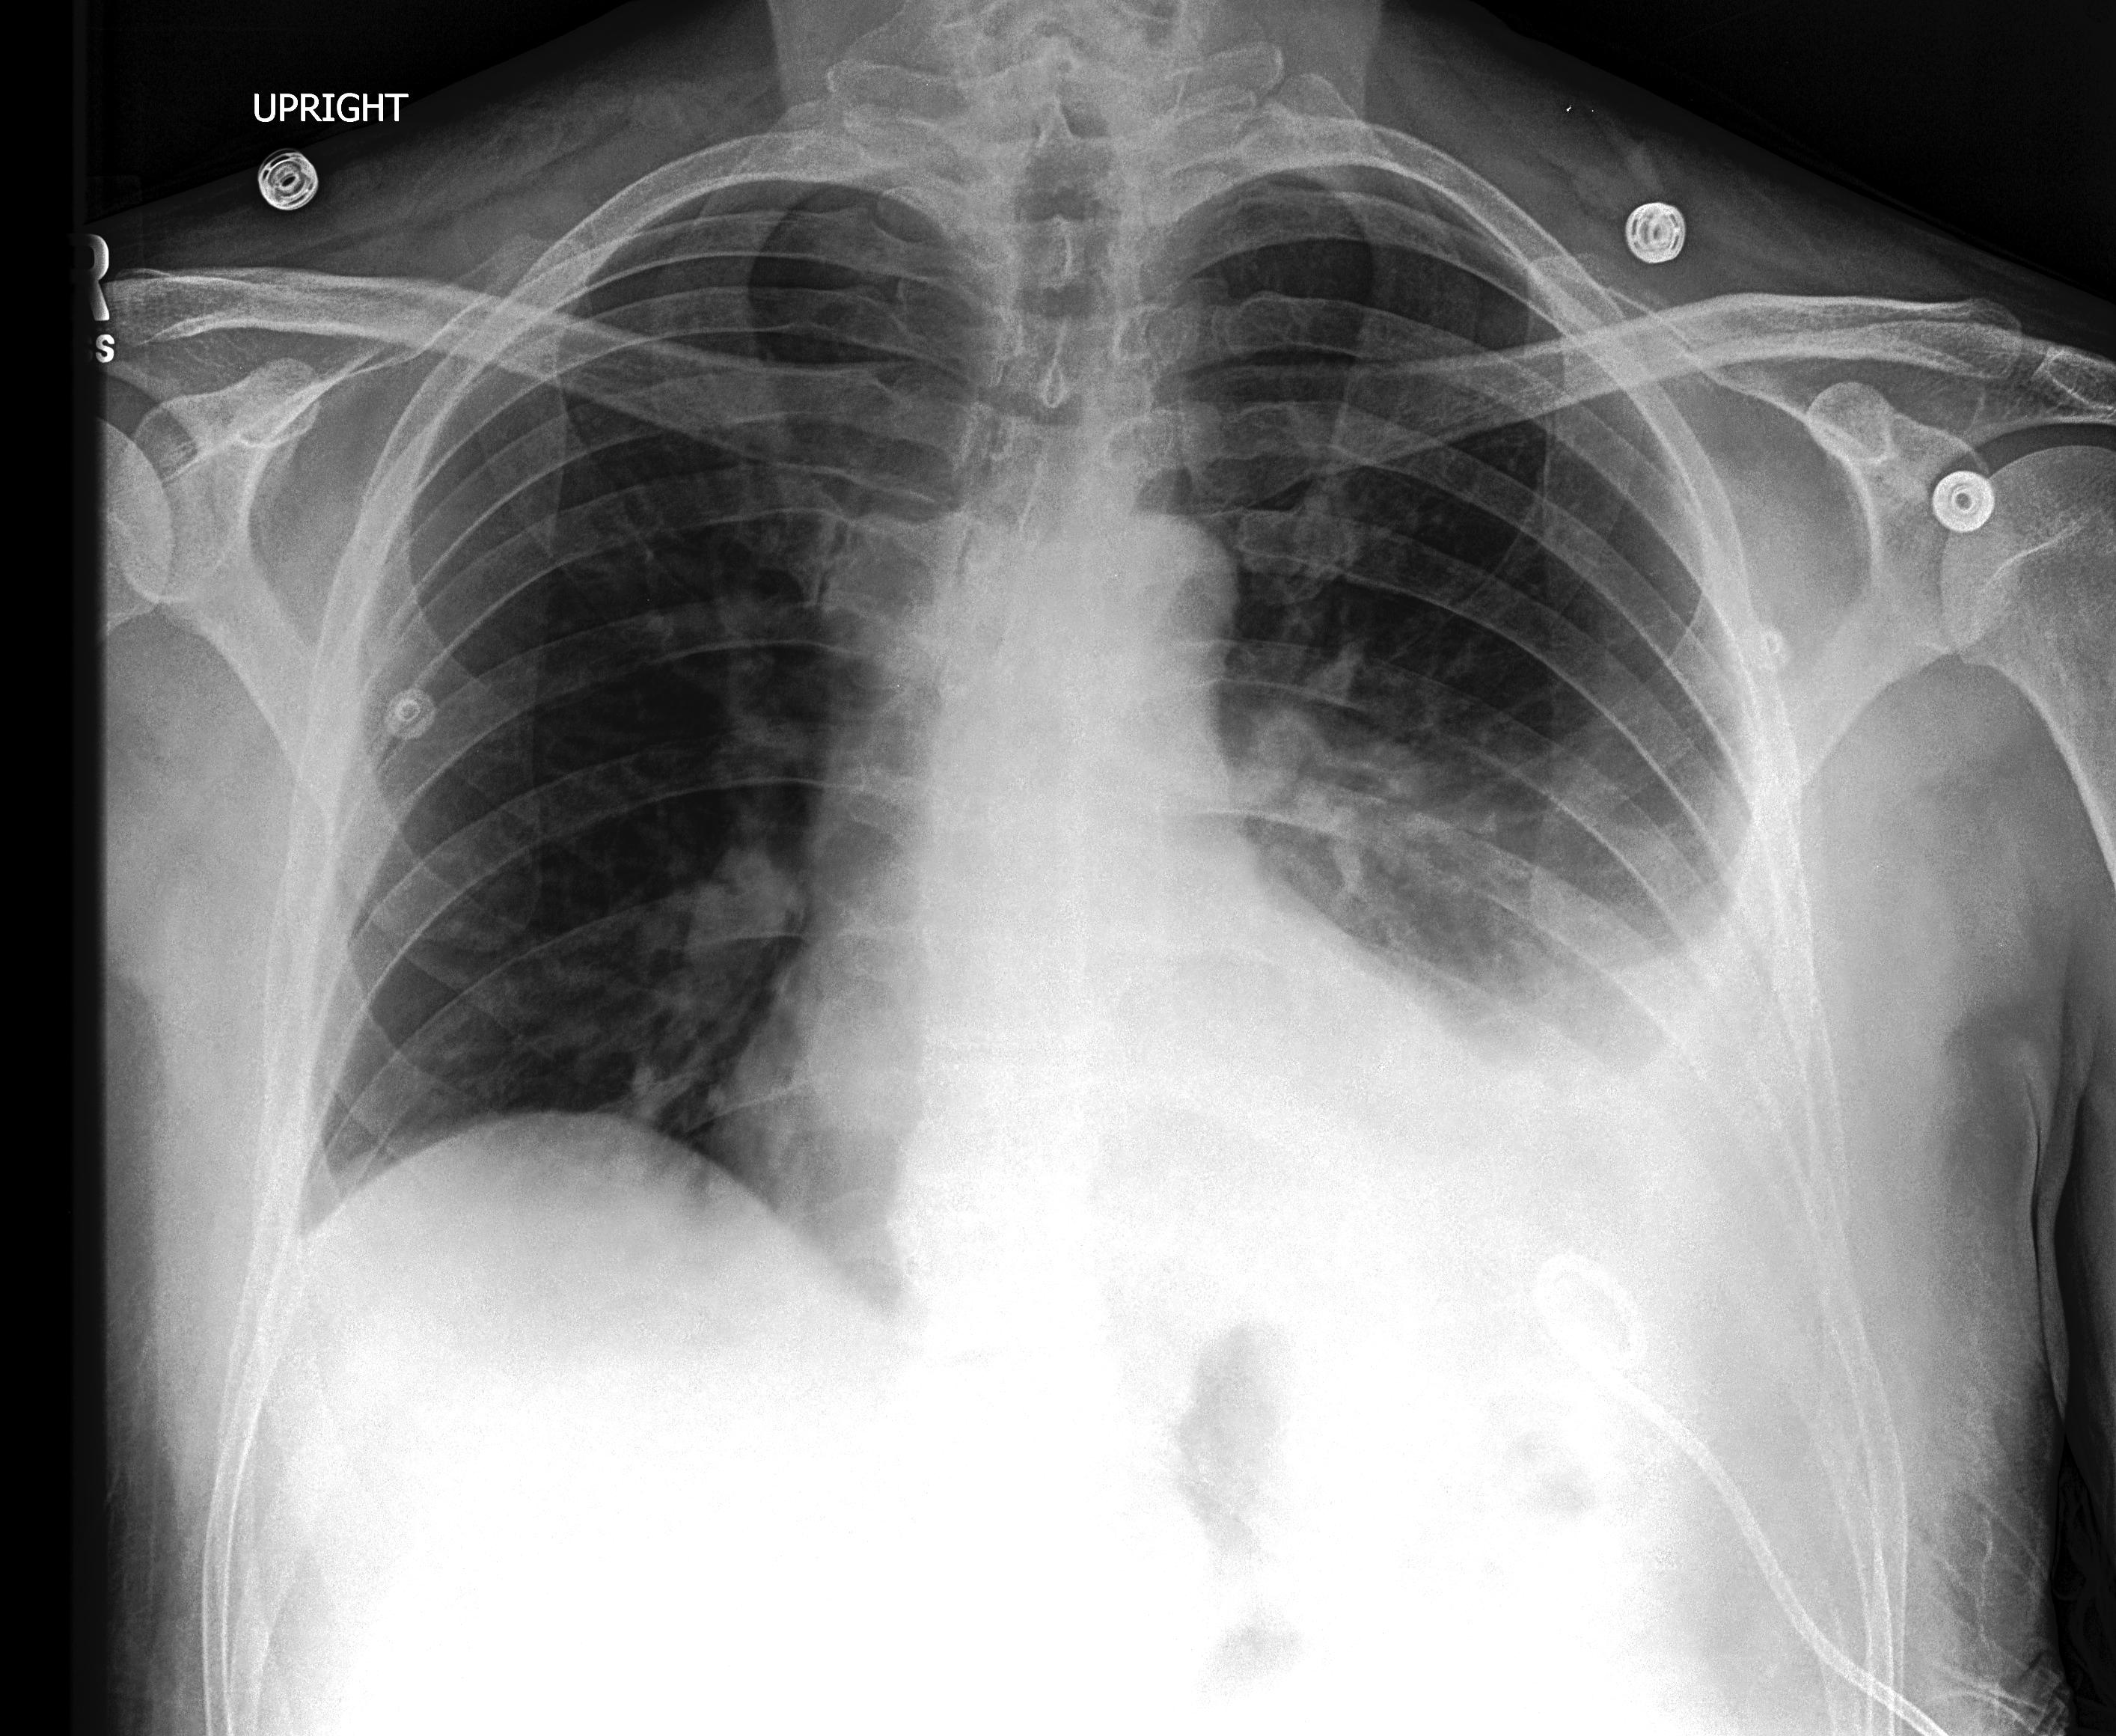Pleural Effusion: (1390, 900, 1858, 1469)
